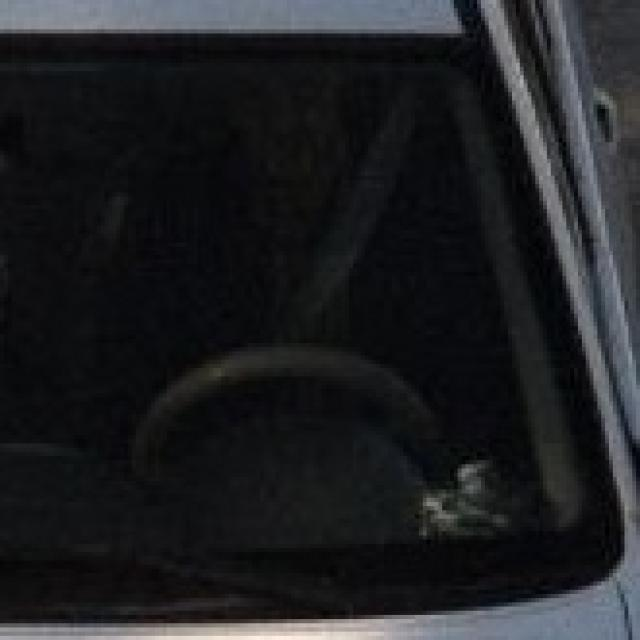windshield: (0, 16, 634, 629)
